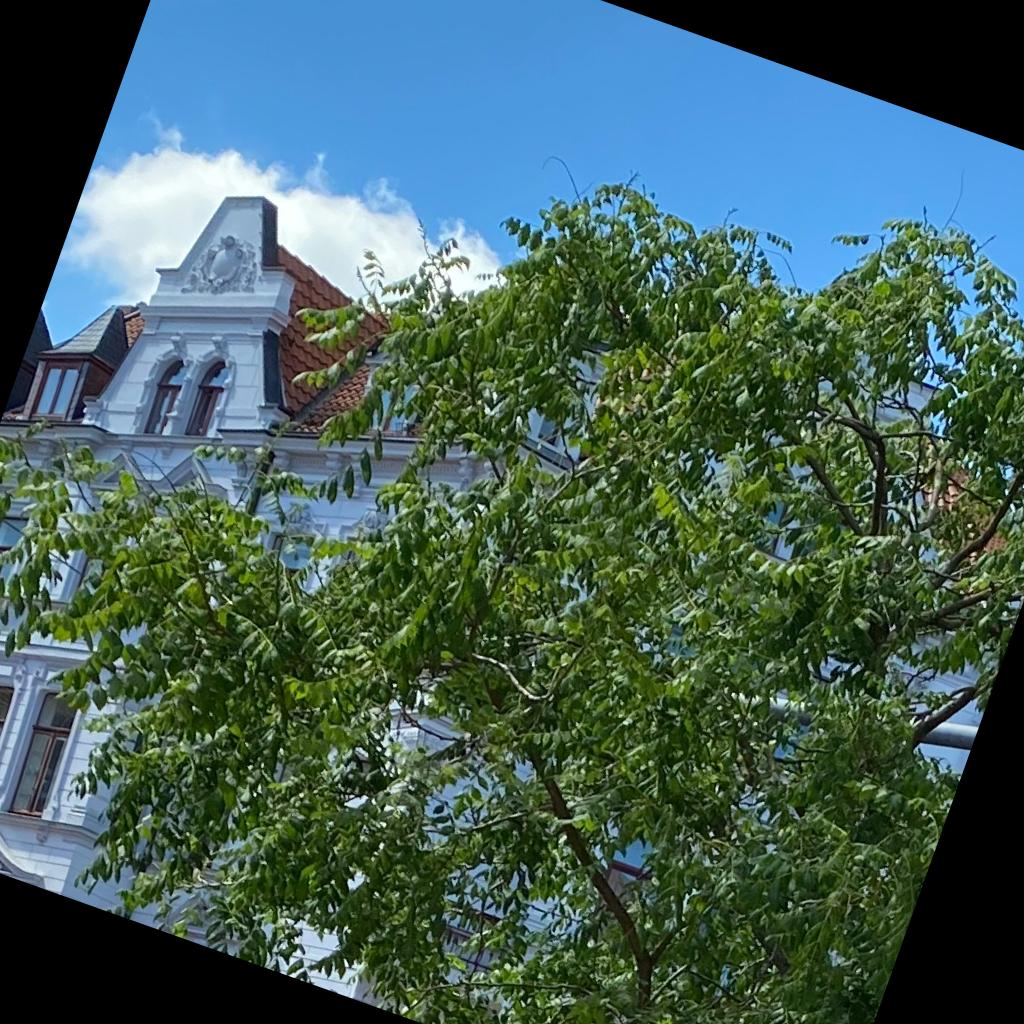tree: (1, 153, 1023, 1023)
